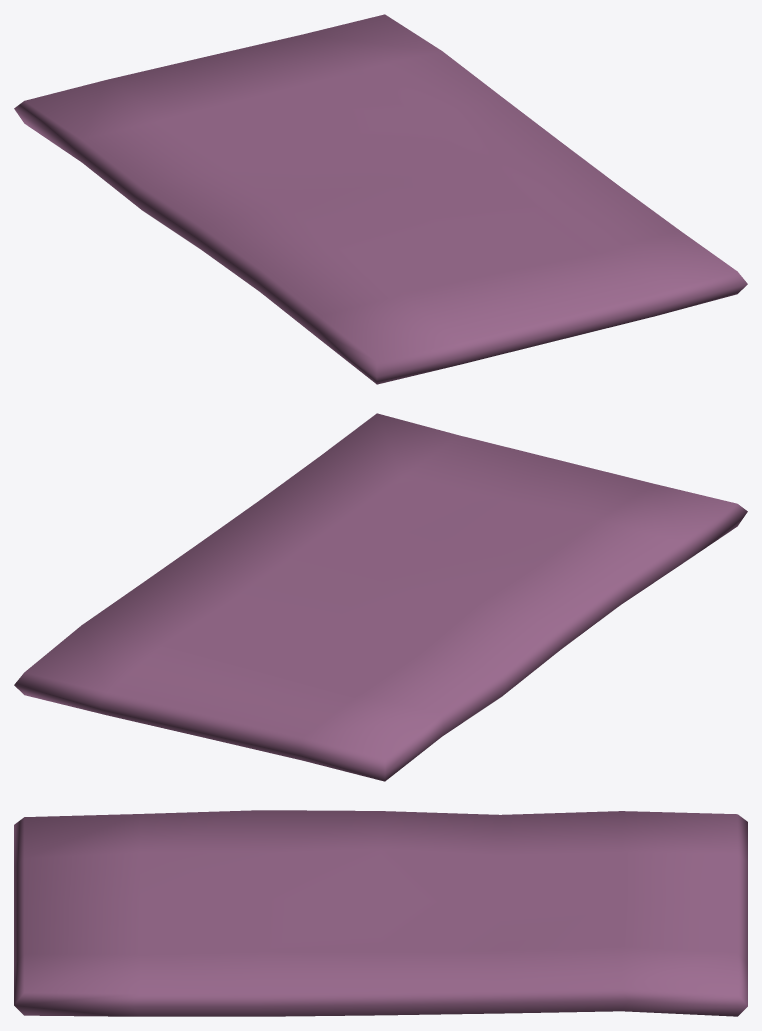
The model's file is Rug.fbx.
3 renders of one model, top to bottom at view 1: azimuth 30°, elevation 25°; view 2: azimuth 150°, elevation 25°; view 3: azimuth 270°, elevation 25°, orthographic.
Visible parts, largest first — view 1: Rug; view 2: Rug; view 3: Rug.
Boxes of the visible parts, x1,y1,x2,y2 form: Rug: (14, 14, 747, 384); Rug: (14, 413, 747, 781); Rug: (14, 810, 747, 1016).
Bounding box in the file's own units: 66.74 × 5.29 × 113.
